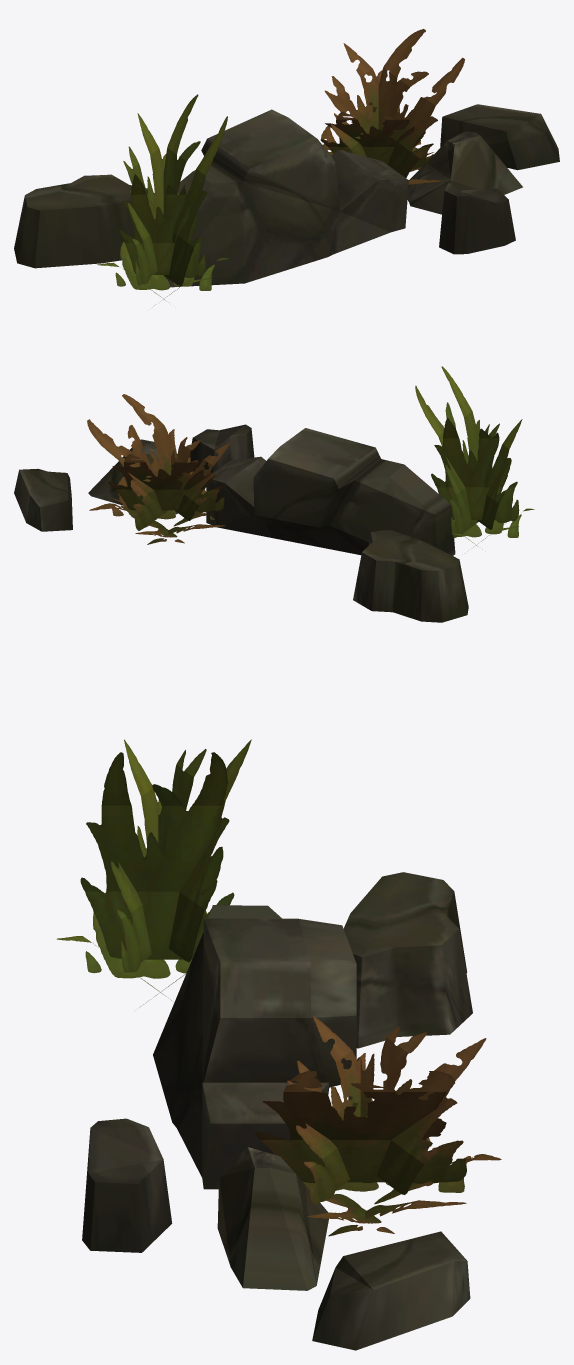
The model's file is humgraveyard_rubble_02.fbx.
The picture shows the model from 3 angles, top to bottom: view 1: azimuth 30°, elevation 25°; view 2: azimuth 150°, elevation 25°; view 3: azimuth 270°, elevation 25°; orthographic projection. The views are drawn at different scales.
Parts seen in each view (by area): view 1: obj3.013; view 2: obj3.013; view 3: obj3.013.
Part boxes in pixels (x1,y1,x2,y2): obj3.013: [14, 29, 559, 305]; obj3.013: [14, 366, 534, 622]; obj3.013: [56, 739, 501, 1350].
Size of the model in its own units: 3.43 by 1.21 by 1.98.
